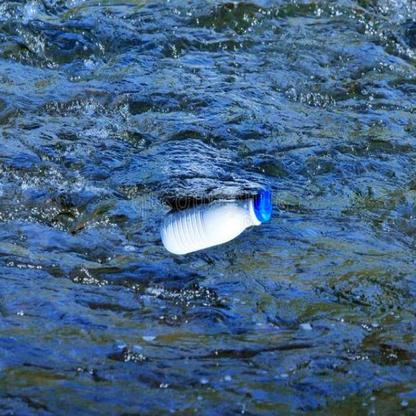plastic bottle: (161, 193, 272, 254)
